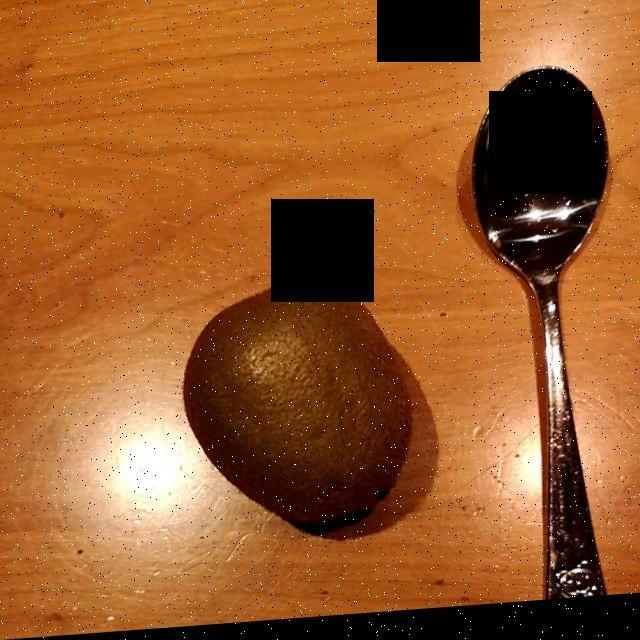kiwi: (183, 290, 416, 525)
